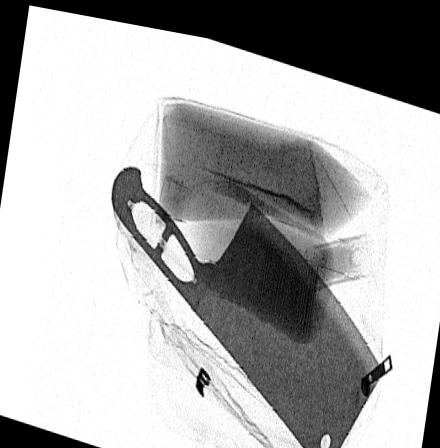Knife: (109, 161, 384, 448)
